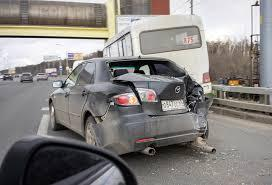Bumper: (92, 100, 214, 152)
Dickey: (108, 58, 199, 117)
Light: (187, 88, 204, 108)
Windshield: (104, 60, 181, 79)
